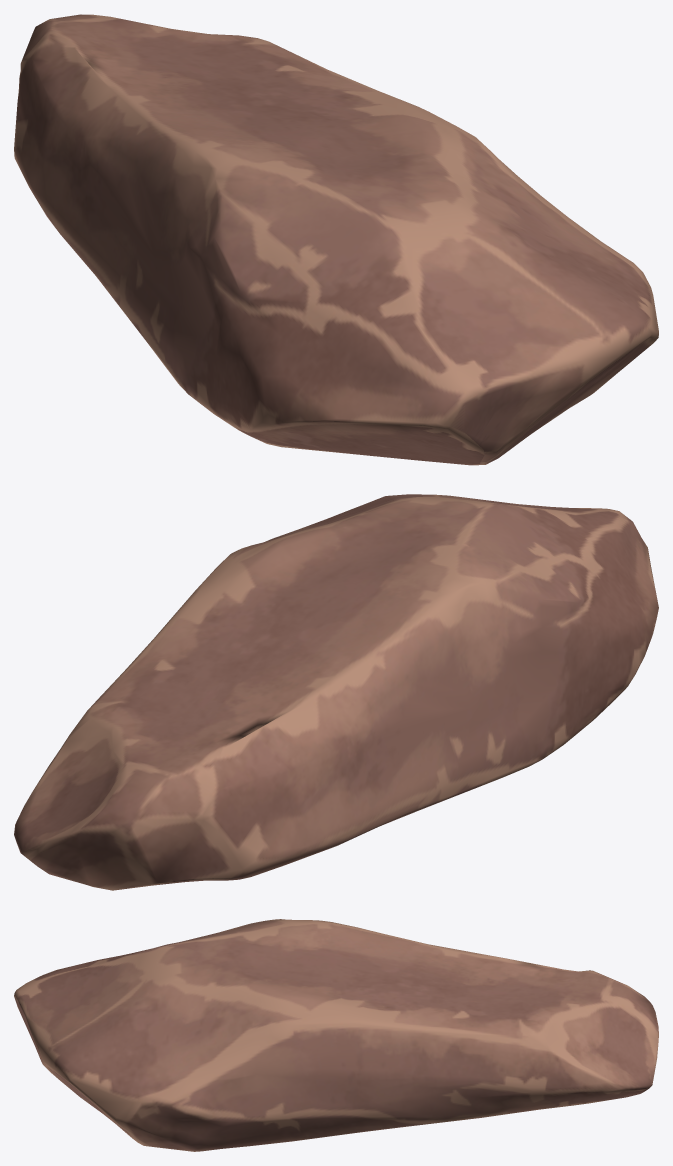
File: Rock_C.FBX
The picture shows the model from 3 angles, top to bottom: view 1: azimuth 30°, elevation 25°; view 2: azimuth 150°, elevation 25°; view 3: azimuth 270°, elevation 25°; orthographic projection. The views are drawn at different scales.
Visible parts, largest first — view 1: Rock_C; view 2: Rock_C; view 3: Rock_C.
Part boxes in pixels (x1,y1,x2,y2): Rock_C: [14, 14, 658, 465]; Rock_C: [14, 494, 658, 890]; Rock_C: [14, 919, 658, 1151].
Size of the model in its own units: 72.68 by 37.06 by 152.
